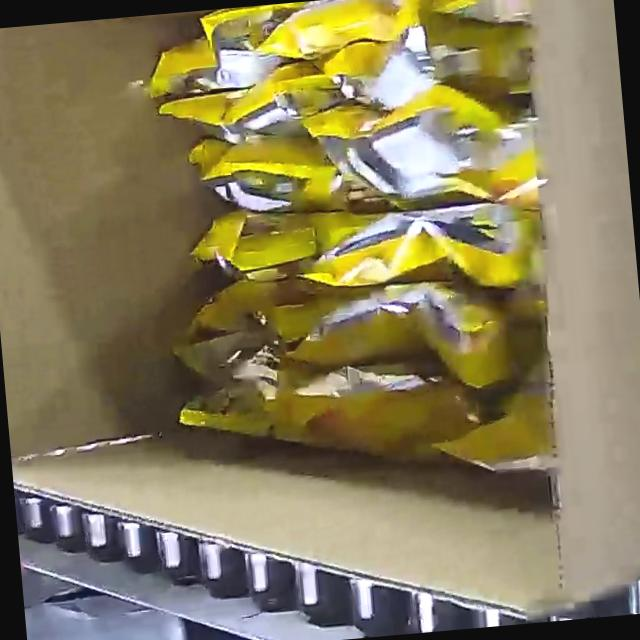salted: (133, 0, 569, 496)
